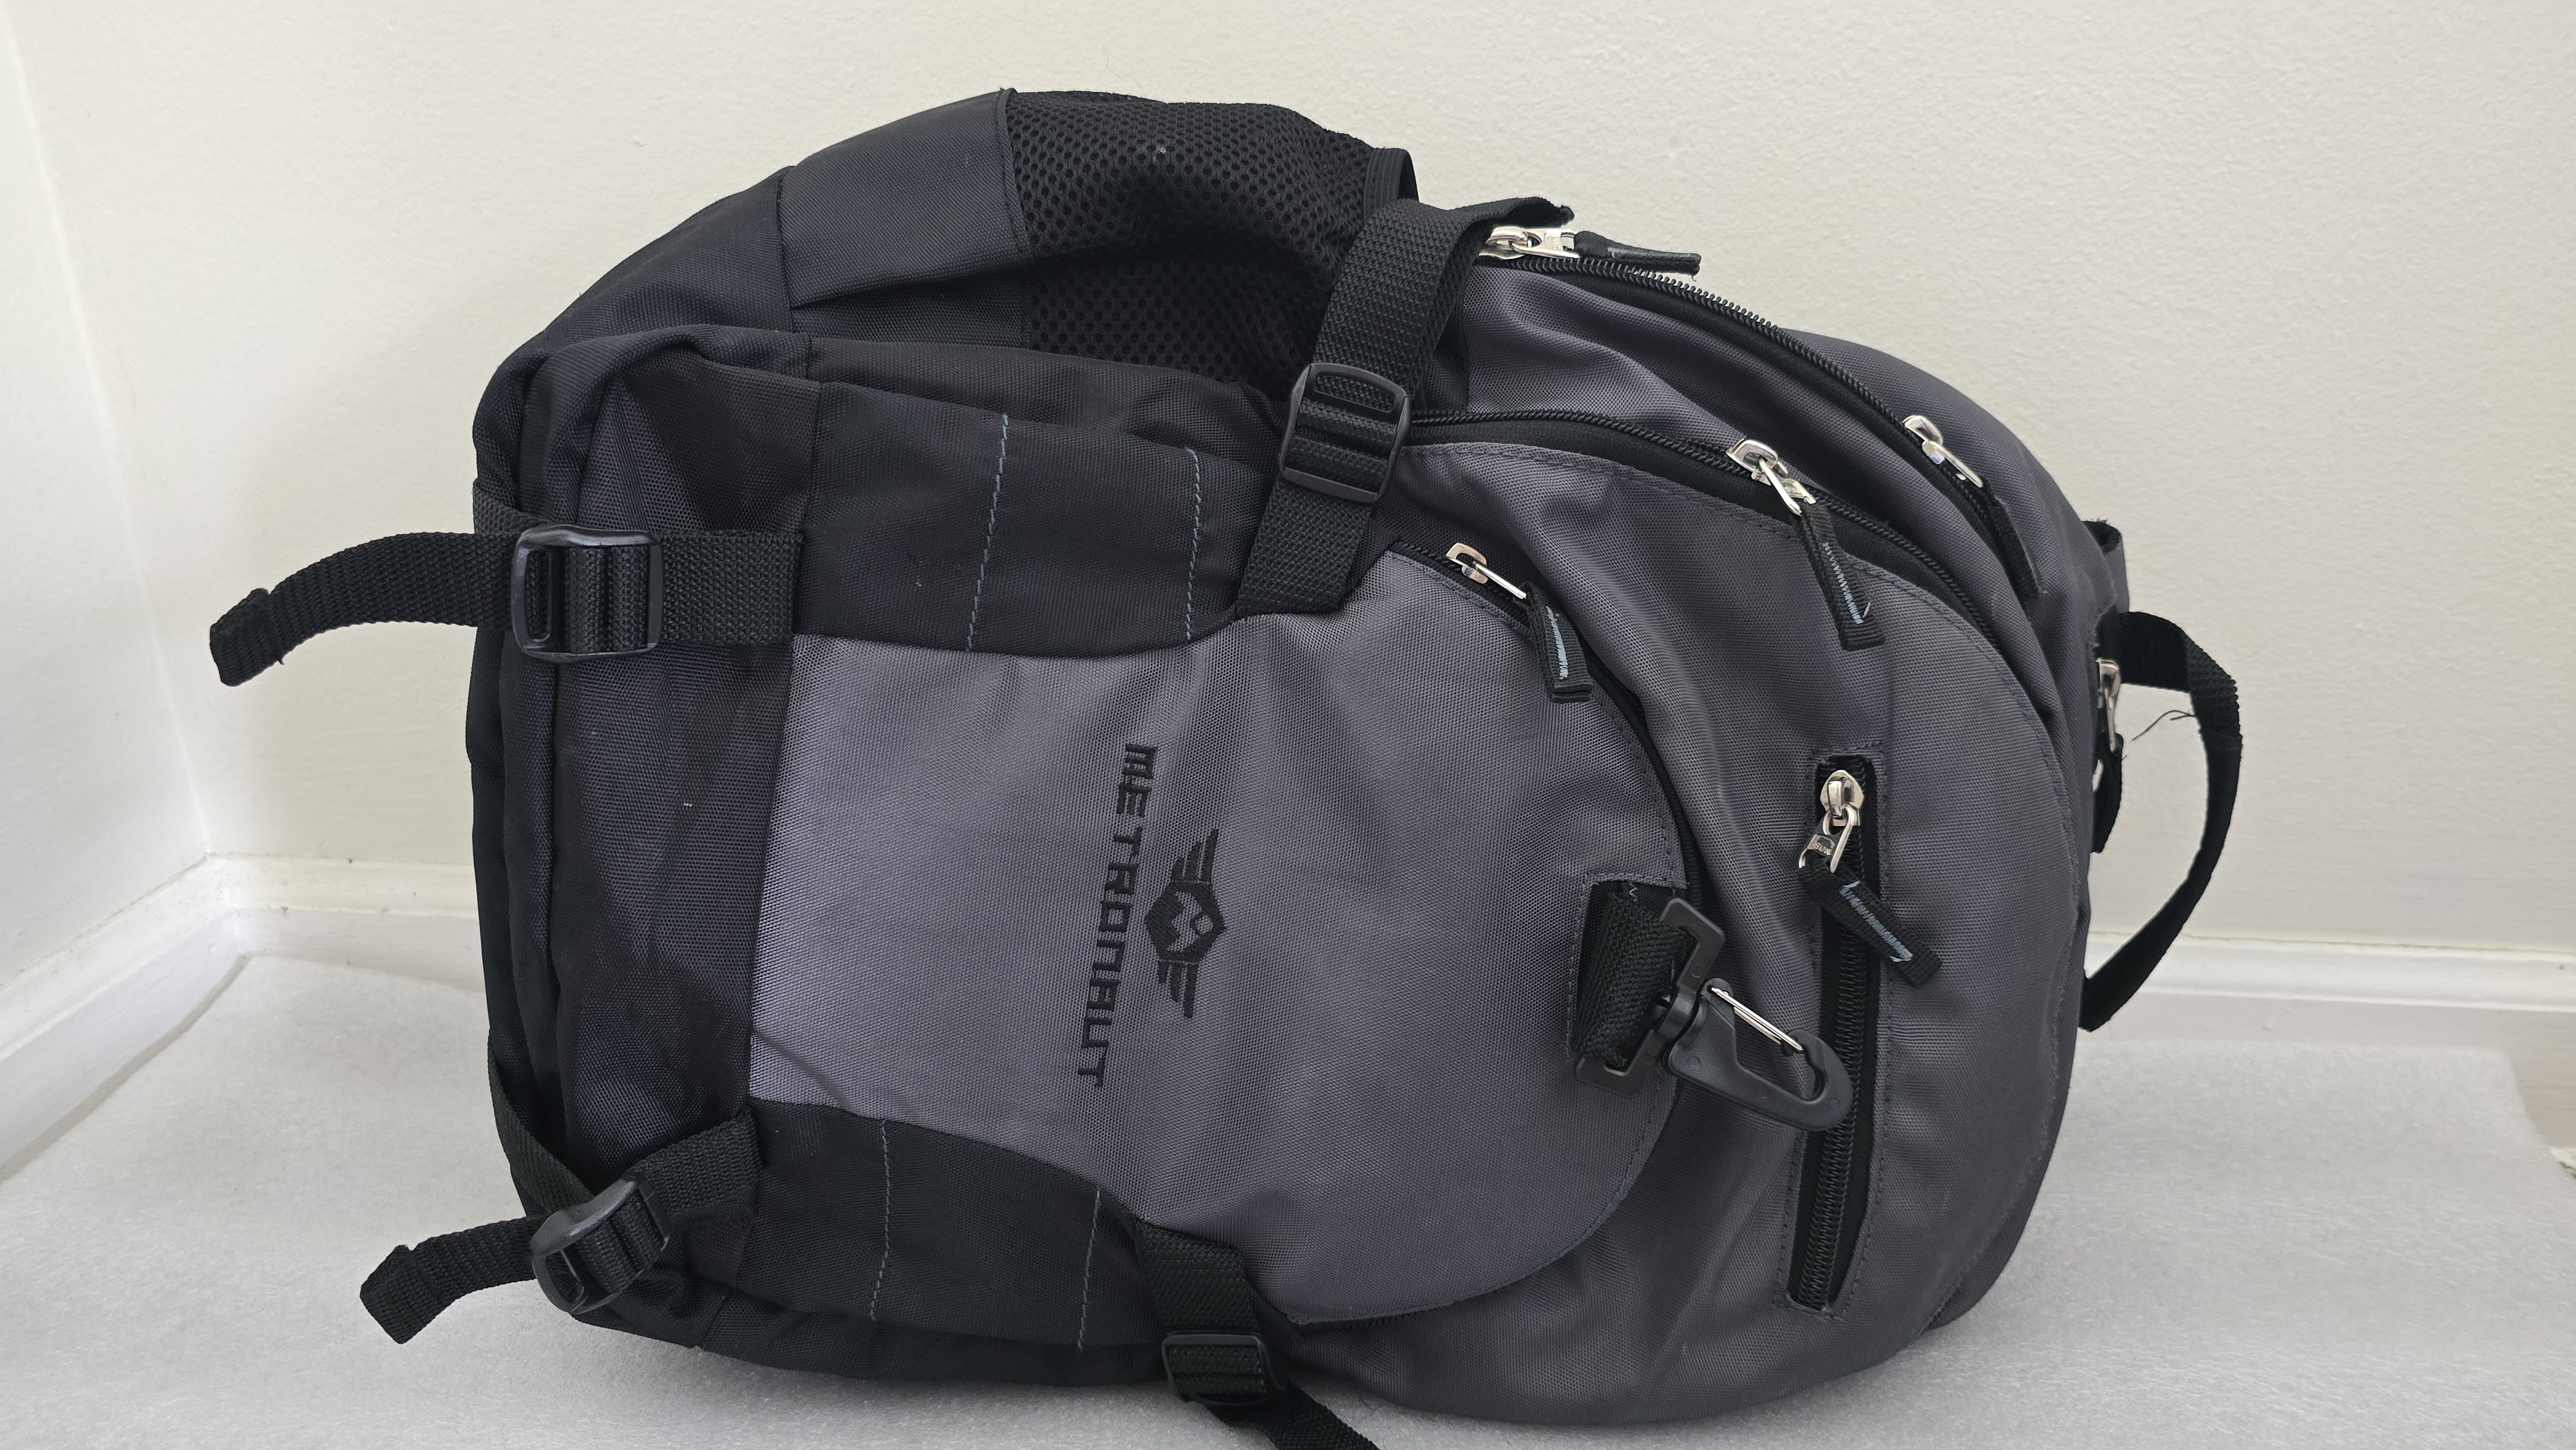bag: (285, 30, 2259, 1395)
